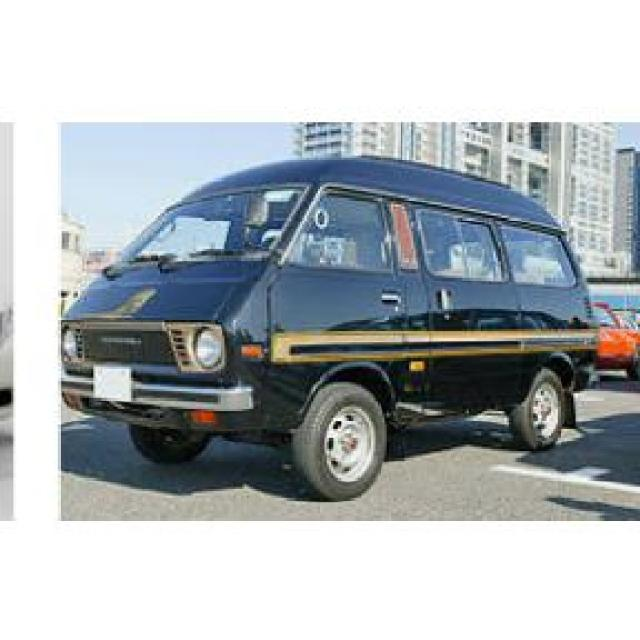Van: (62, 150, 592, 498)
